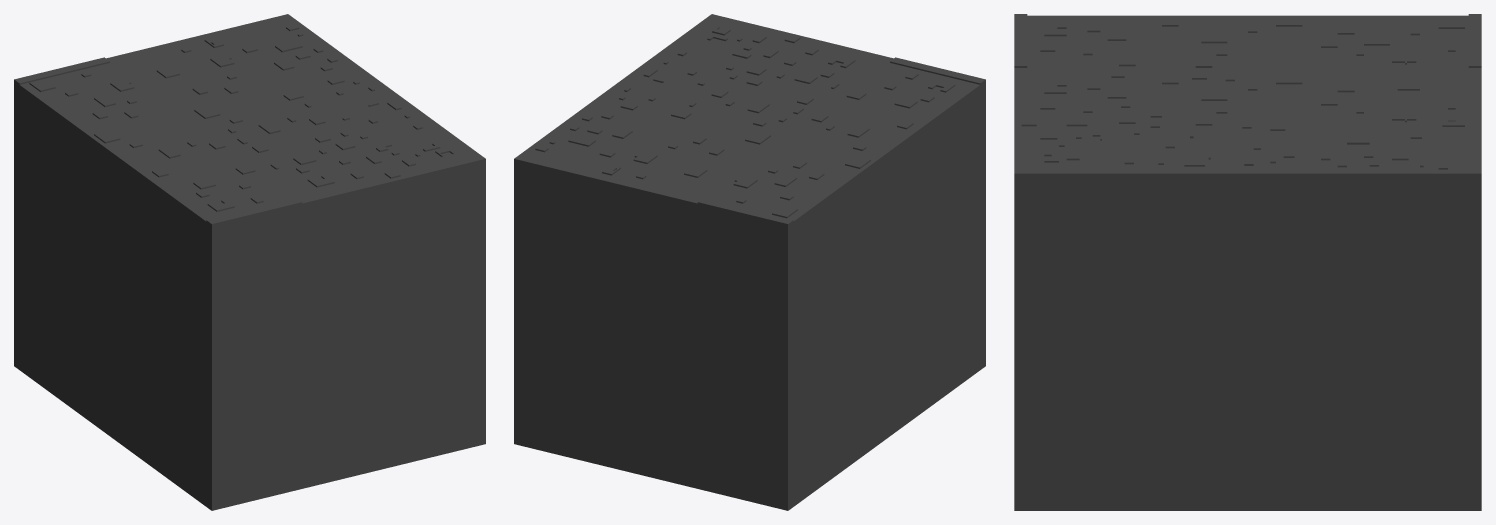
Rendered from Roads-1.obj.
3 renders of one model, left to right at view 1: azimuth 30°, elevation 25°; view 2: azimuth 150°, elevation 25°; view 3: azimuth 270°, elevation 25°, orthographic. The views are drawn at different scales.
Bounding box in the file's own units: 20 × 20 × 25.
